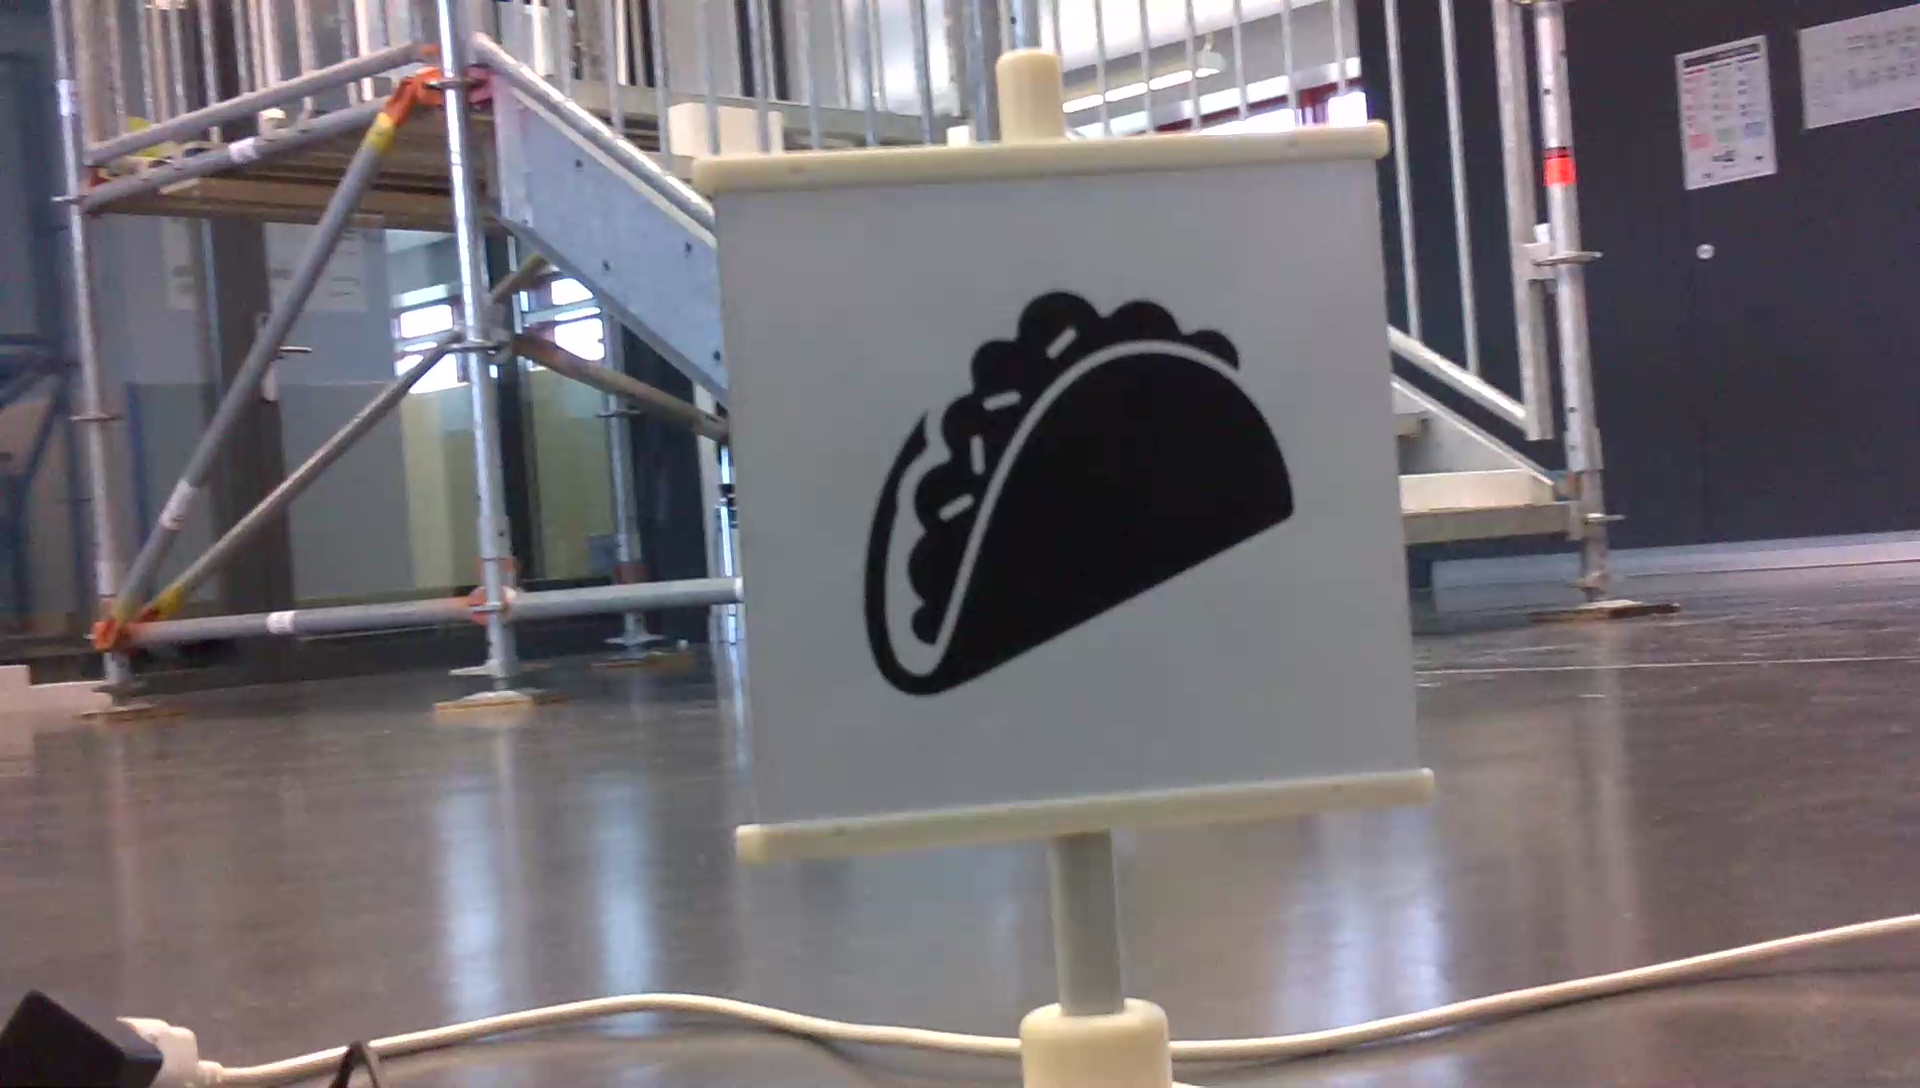brick: (1399, 471, 1526, 513)
taco: (843, 274, 1305, 706)
